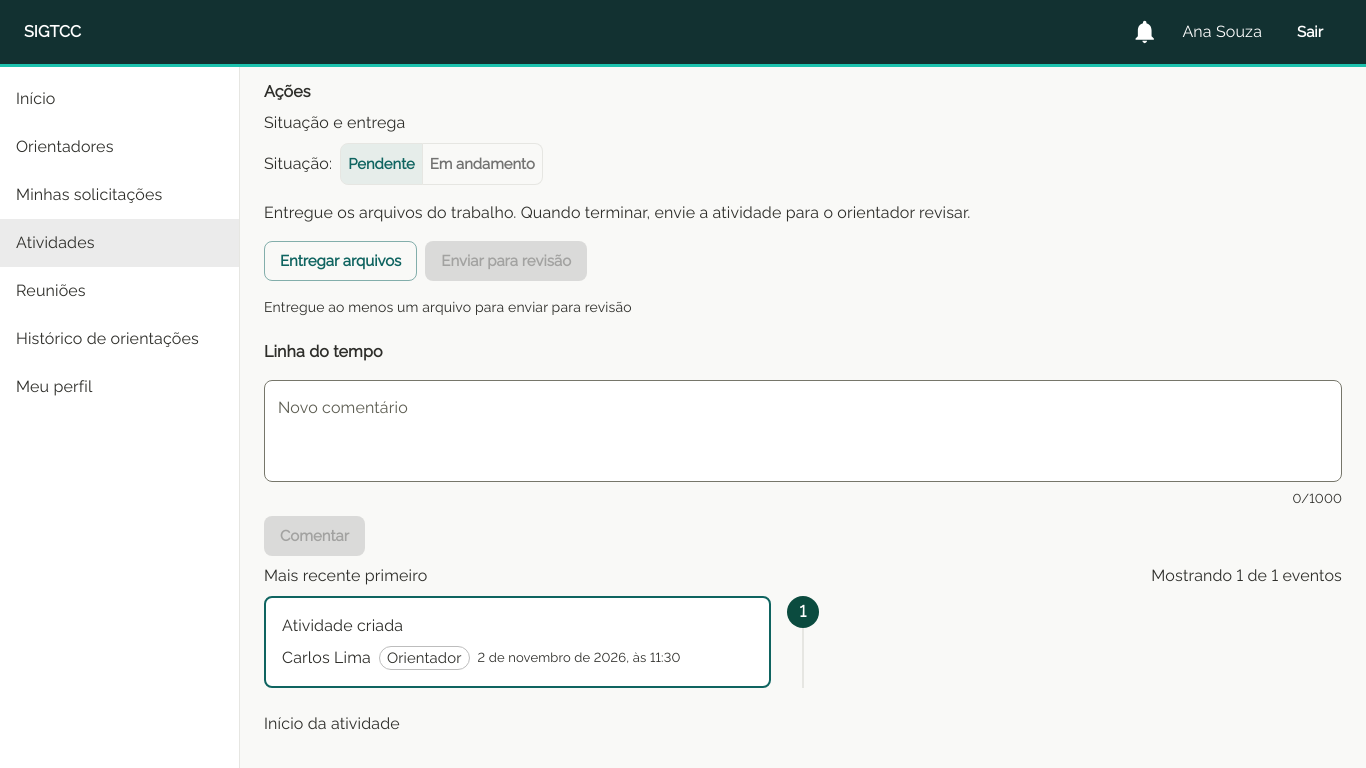
Scenario: Detalhe da atividade: a releitura a cada 30 s › mostra o comentário da outra parte e guarda o rascunho de comentário
(page scrolled)
Step 1. Type "Meu rascunho" into the text box labelled "Novo comentário" → (803, 431), box [278,396,1328,465]
Wait 30000 ms
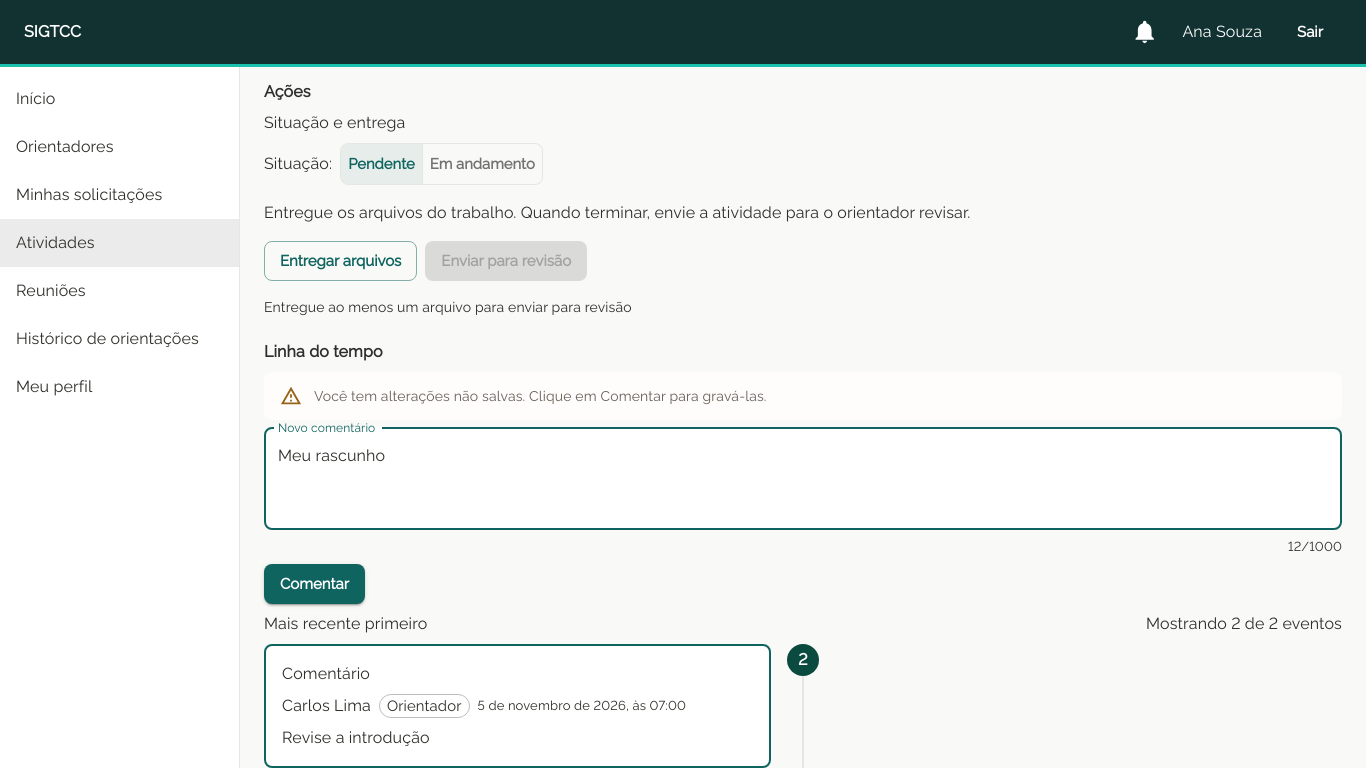
Result: the text "Revise a introdução" is shown at [282,728,430,747]
